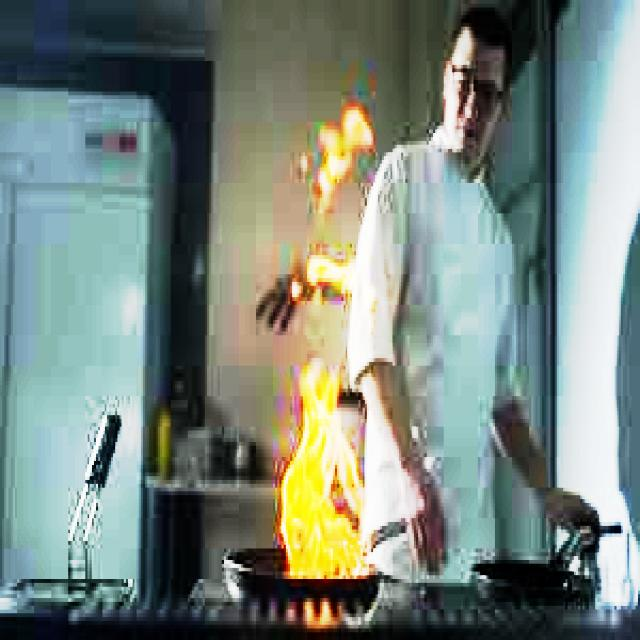api: (270, 344, 383, 569), (298, 104, 392, 306)
